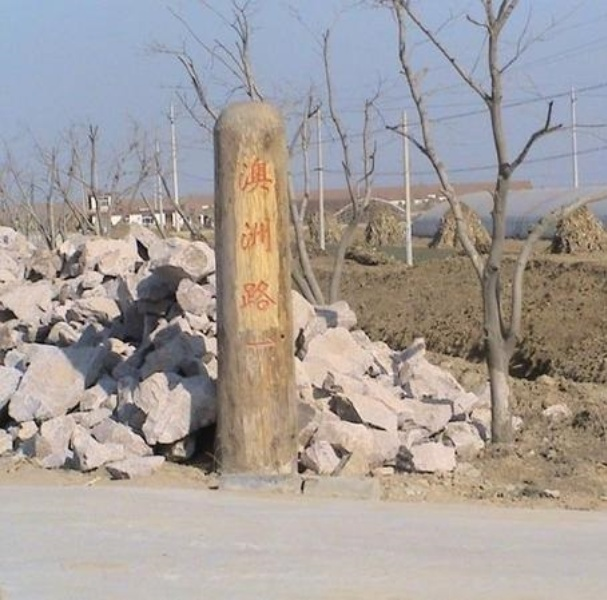text: (241, 156, 256, 312), (257, 156, 272, 312), (273, 156, 279, 312), (237, 156, 240, 312)
